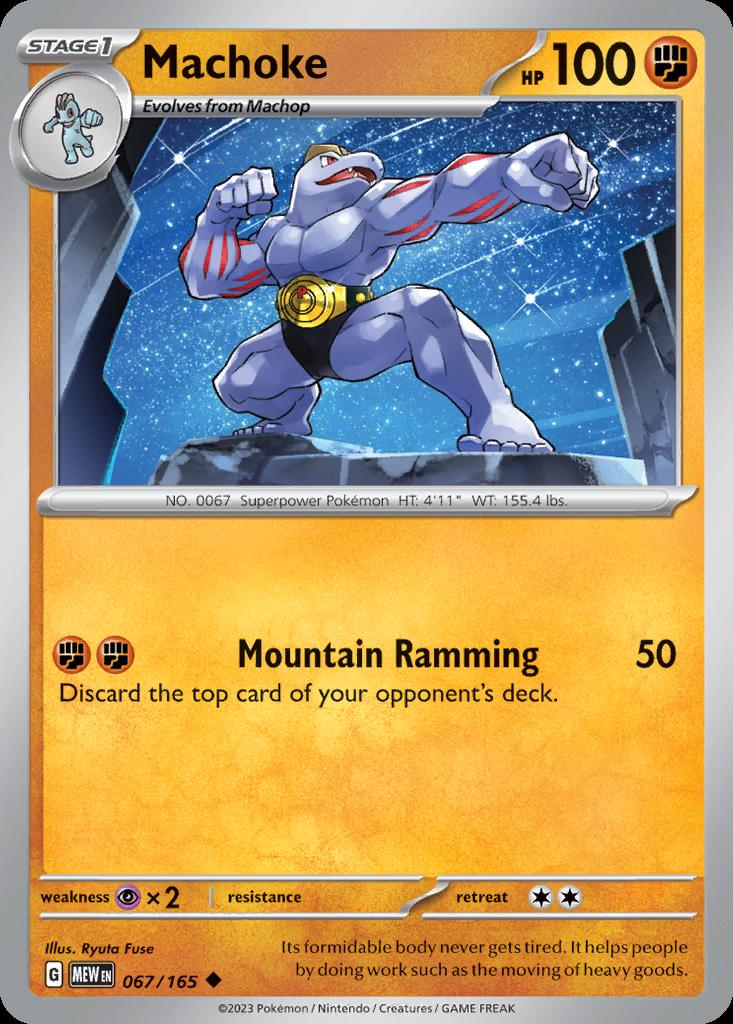card: (0, 0, 733, 1024)
hp: (514, 30, 701, 90)
name: (134, 36, 341, 89)
set num: (124, 964, 203, 993)
set symbol: (64, 960, 123, 994)
